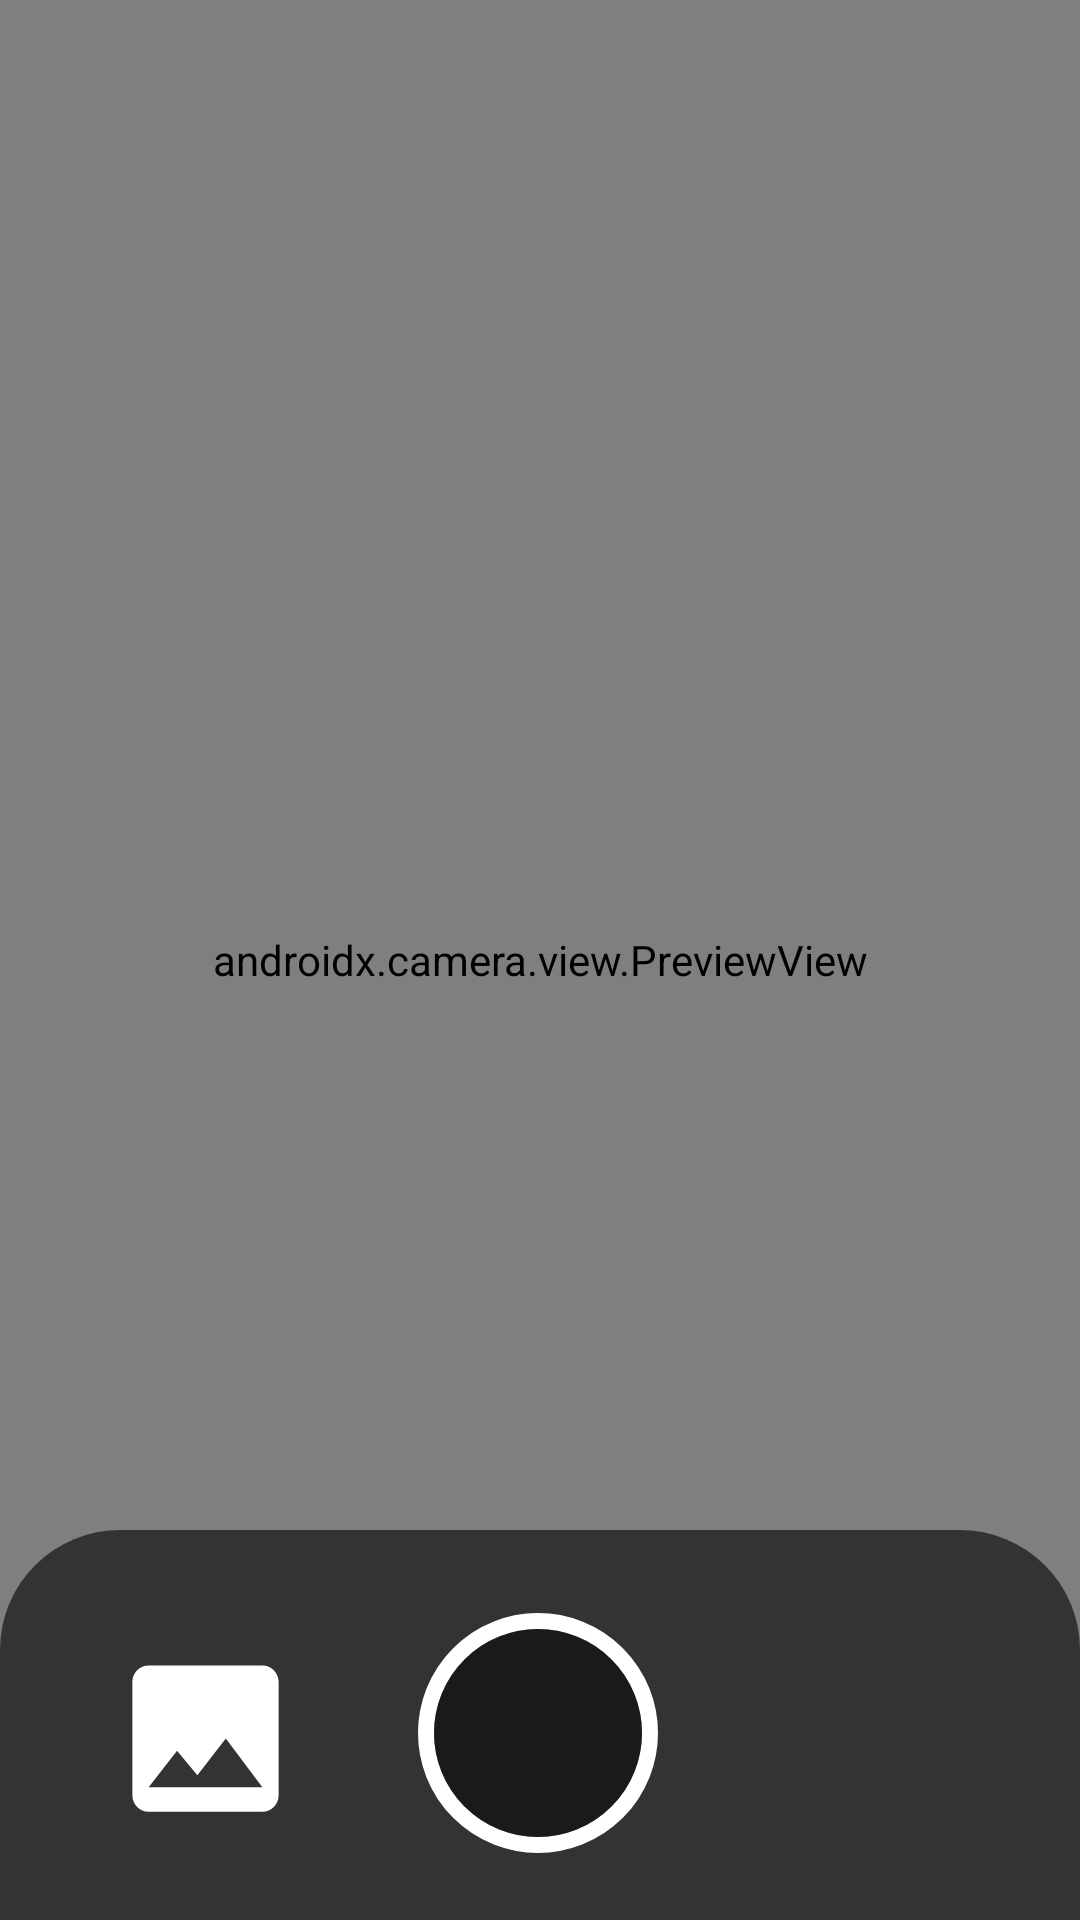

Icon bounding boxes for this 1080 × 1920 phone screenshot, format (x1, y1, x2, y2):
camera circle: (418, 1613, 658, 1853)
insert photo: (132, 1665, 279, 1812)
